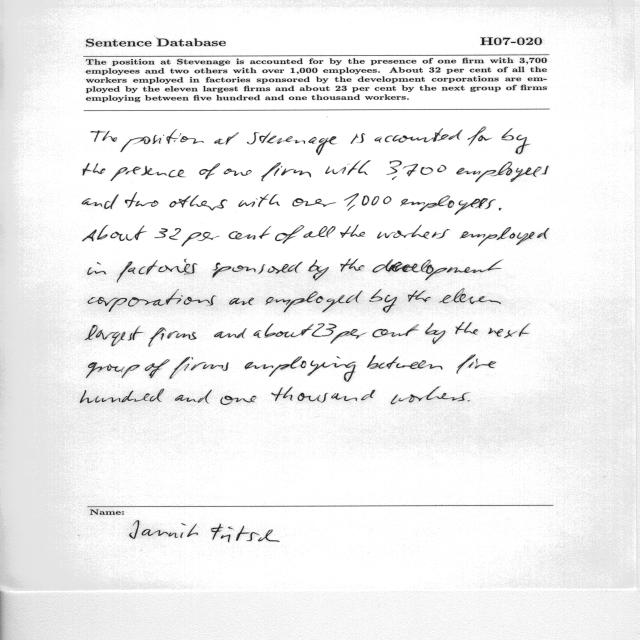word: (88, 289, 216, 312), (245, 356, 356, 382), (372, 259, 502, 280), (266, 291, 363, 313), (247, 132, 336, 155), (456, 162, 549, 183), (120, 129, 204, 152), (400, 195, 496, 215), (117, 259, 198, 282), (358, 160, 446, 180), (460, 227, 549, 246), (271, 387, 375, 403), (212, 262, 303, 278), (391, 387, 469, 404), (375, 128, 463, 143), (169, 357, 229, 379), (85, 325, 143, 346), (80, 389, 164, 403), (111, 166, 186, 181), (367, 355, 442, 370), (83, 225, 147, 241), (377, 225, 450, 239), (439, 288, 501, 304), (261, 162, 311, 181), (149, 328, 197, 347), (170, 196, 228, 211), (86, 362, 140, 378), (345, 193, 392, 211), (254, 324, 314, 338), (457, 354, 497, 374), (501, 128, 530, 154), (369, 289, 397, 313), (373, 325, 419, 338), (229, 226, 271, 240), (488, 324, 529, 338), (82, 194, 119, 209), (275, 225, 304, 244), (238, 194, 280, 207), (325, 160, 361, 175), (182, 232, 220, 246), (125, 192, 158, 208), (331, 329, 366, 344), (175, 390, 212, 404), (145, 359, 170, 378), (468, 127, 492, 146), (308, 260, 329, 281), (426, 323, 446, 344), (292, 198, 336, 207), (303, 226, 336, 238), (312, 323, 337, 337), (199, 163, 220, 179), (214, 329, 247, 339), (214, 132, 239, 145), (340, 225, 365, 238), (154, 228, 181, 240), (221, 396, 257, 405), (91, 130, 117, 142), (341, 259, 365, 272), (455, 322, 478, 335), (408, 291, 431, 303), (83, 163, 105, 175), (88, 262, 106, 275), (224, 169, 252, 176), (229, 298, 254, 305), (351, 133, 365, 144), (499, 208, 502, 210), (468, 400, 470, 402)
